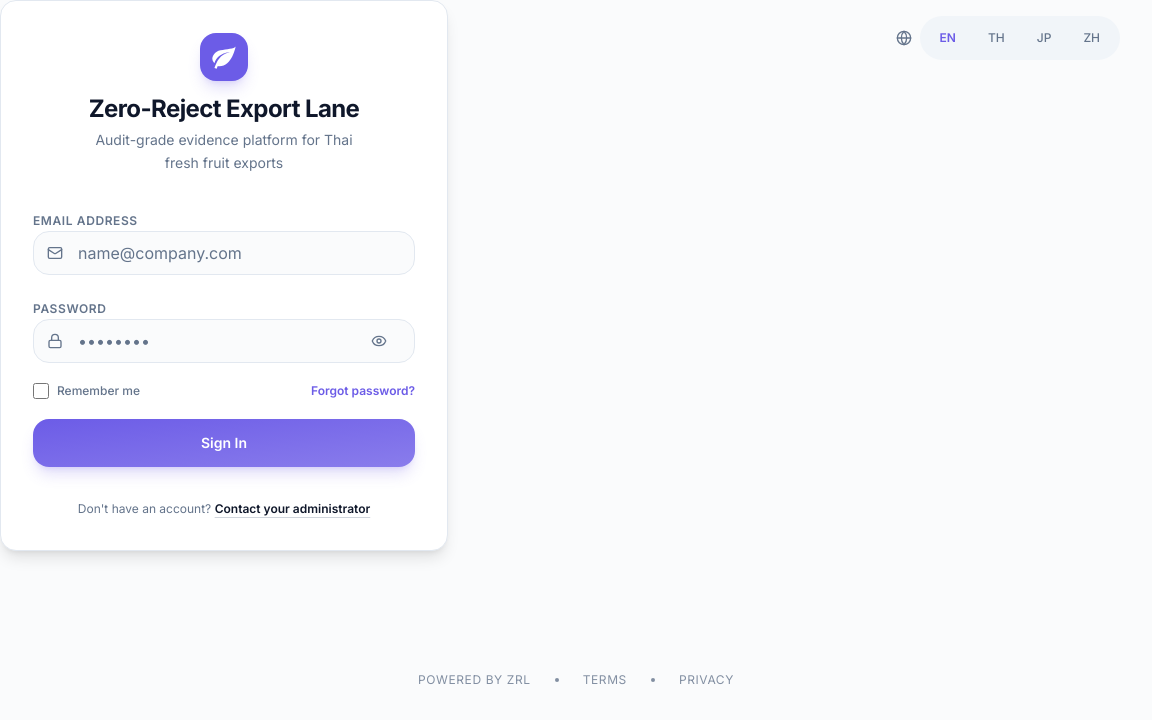
Test: LoginPage › shows validation error for empty fields
This screenshot has width=1152, height=720.
Click the button "Sign In": {"x": 224, "y": 442} [33, 418, 415, 466]
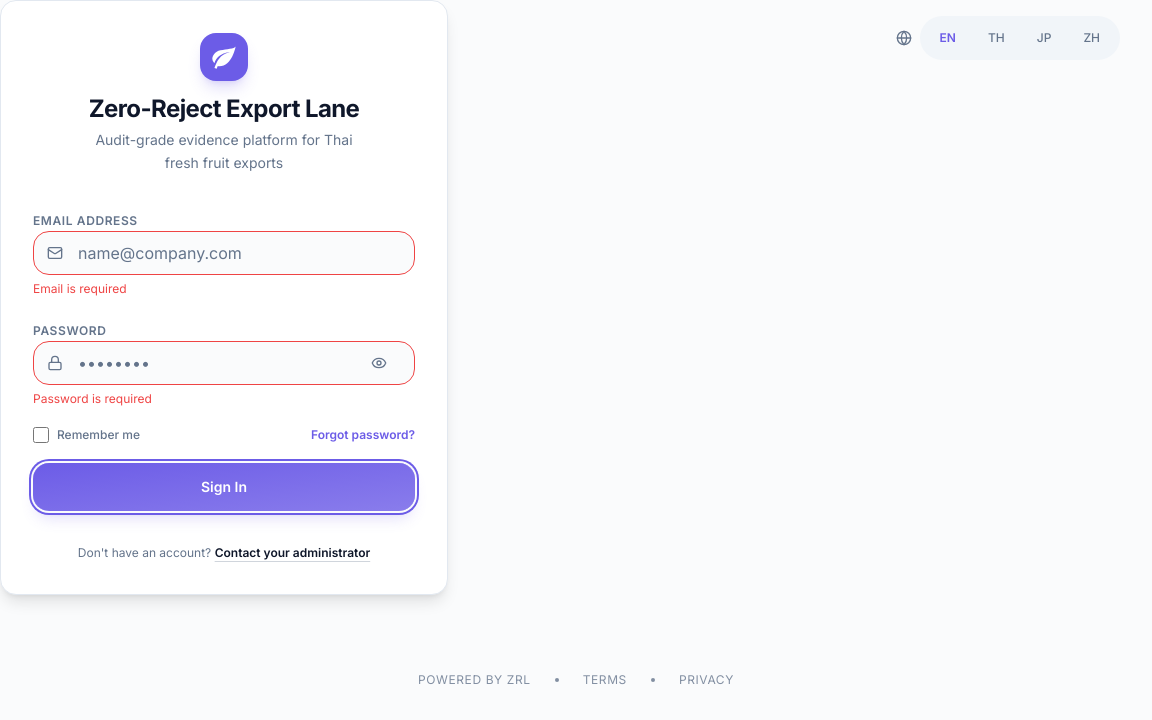
Check: the text "Email is required" is shown, box [33, 280, 127, 296]
Check: the text "Password is required" is shown, box [33, 390, 152, 406]
